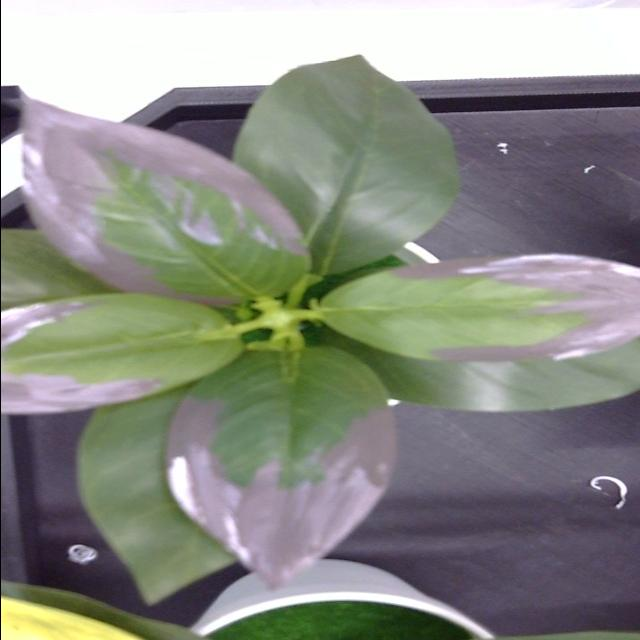Brown: (136, 346, 395, 599), (35, 104, 307, 298), (309, 254, 640, 360), (1, 294, 243, 412)
Green: (234, 56, 458, 274), (78, 390, 234, 602), (332, 336, 640, 412), (1, 228, 117, 309)
